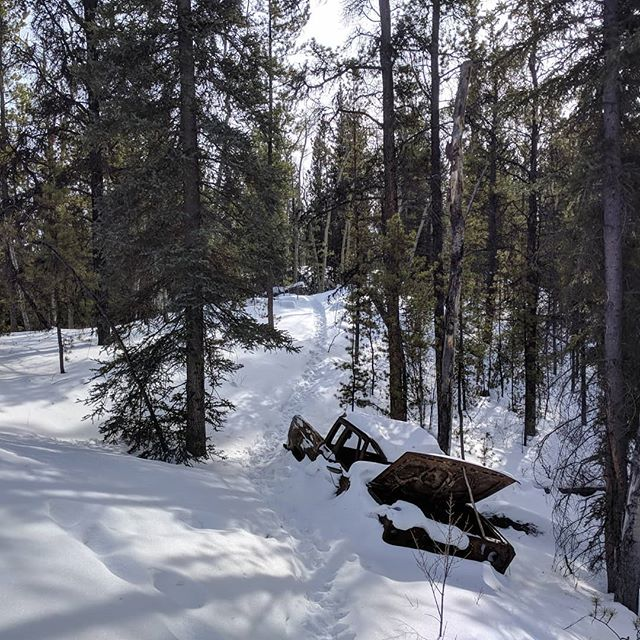car: (291, 407, 531, 589)
vegetation: (35, 1, 640, 578)
